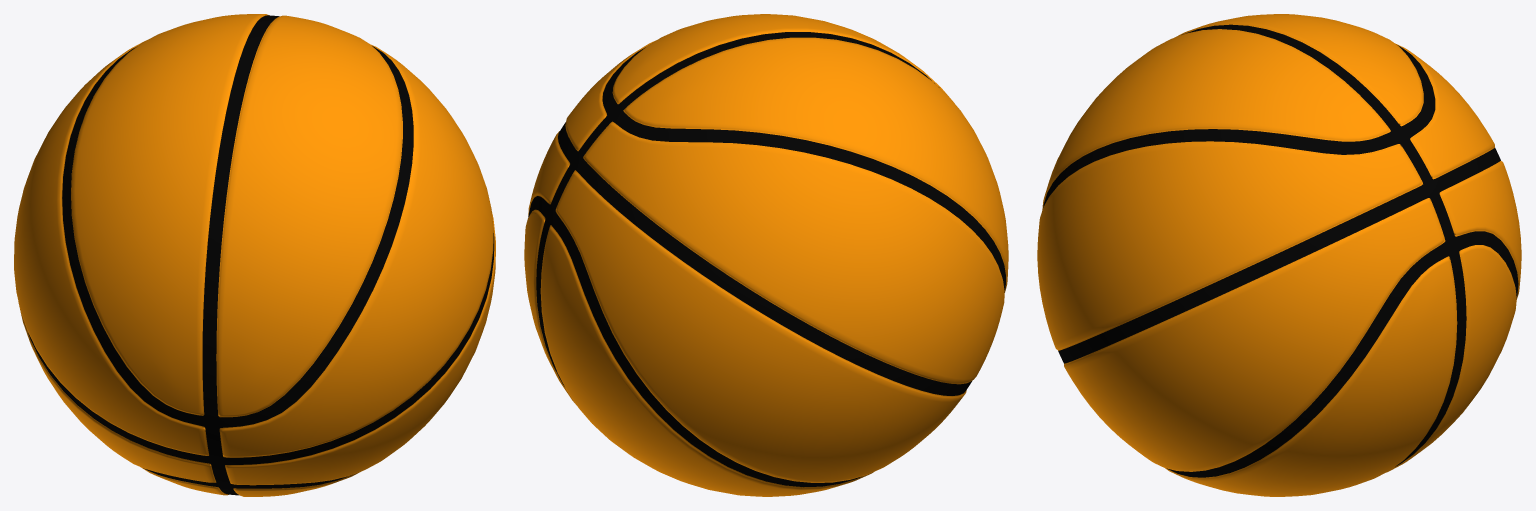
The model's file is basketball01.fbx.
3 renders of one model, left to right at view 1: azimuth 30°, elevation 25°; view 2: azimuth 150°, elevation 25°; view 3: azimuth 270°, elevation 25°, orthographic.
Visible parts, largest first — view 1: Basketball; view 2: Basketball; view 3: Basketball.
Part boxes in pixels (x1,y1,x2,y2): Basketball: (14, 14, 495, 496); Basketball: (524, 14, 1008, 496); Basketball: (1037, 14, 1521, 496).
Size of the model in its own units: 40.94 by 41.03 by 40.99.
